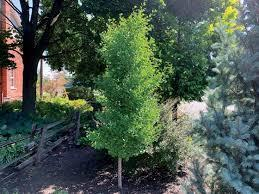tree: (90, 6, 161, 188)
